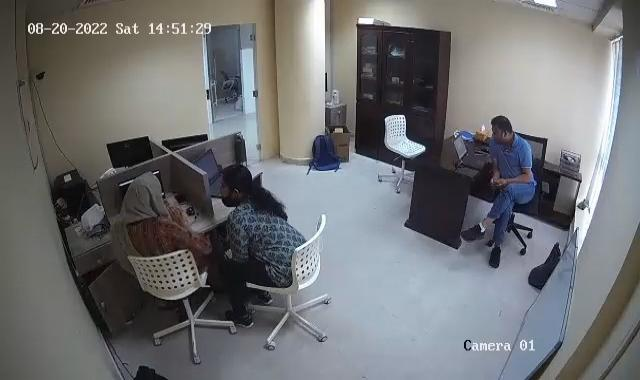no_hairnet: (212, 163, 256, 205), (131, 174, 165, 211), (484, 112, 516, 142)
